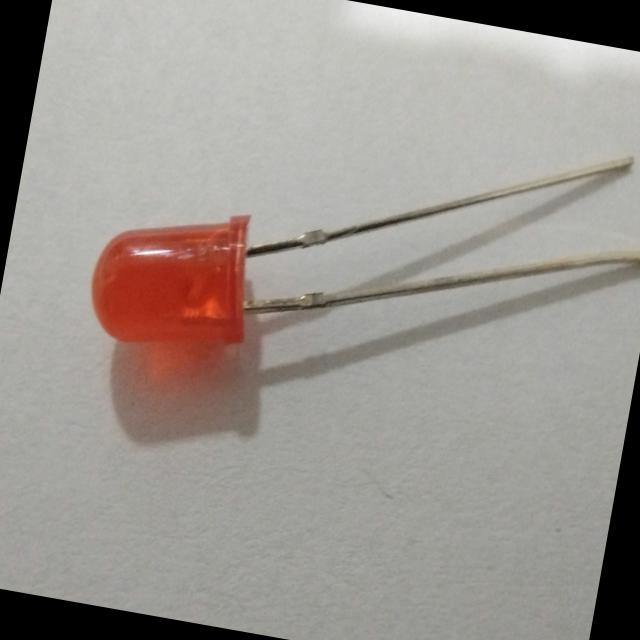red_led: (78, 182, 278, 374)
